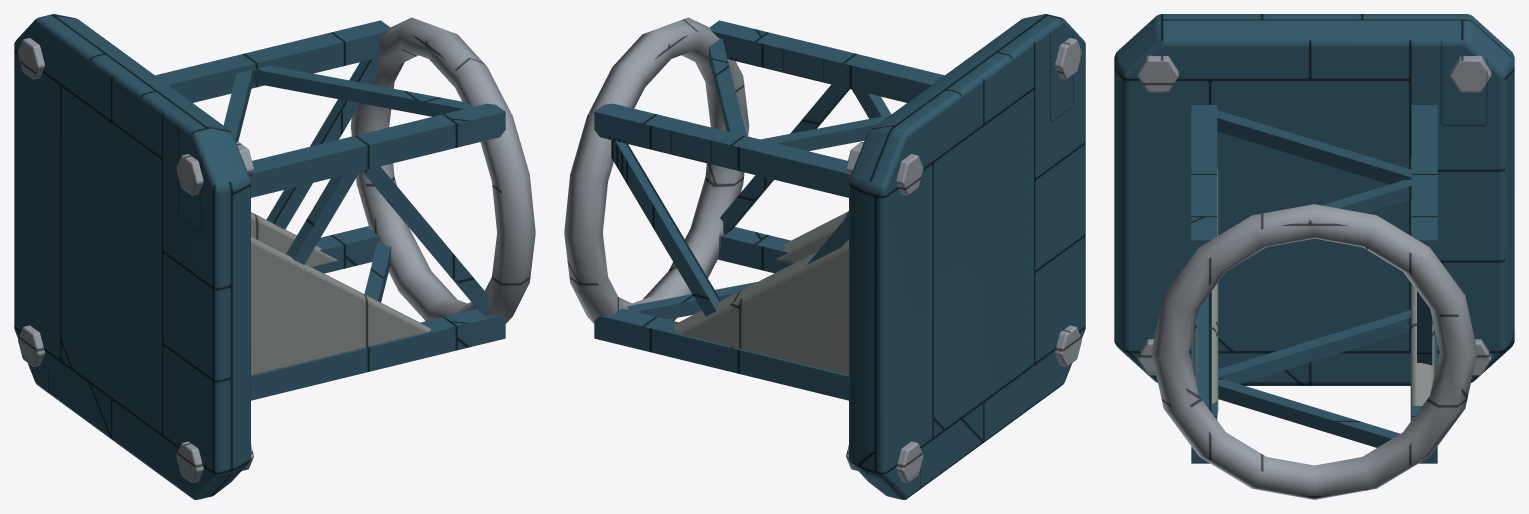
Rendered from bulkhead_mount_lod0.glb.
The picture shows the model from 3 angles, left to right: view 1: azimuth 30°, elevation 25°; view 2: azimuth 150°, elevation 25°; view 3: azimuth 270°, elevation 25°; orthographic projection.
Parts seen in each view (by area): view 1: LOD0_Armor, LOD0_BrushedMetal, LOD0_Hull; view 2: LOD0_Armor, LOD0_BrushedMetal, LOD0_Hull; view 3: LOD0_Armor, LOD0_BrushedMetal, LOD0_Hull.
Boxes of the visible parts, bbox=[...] form: LOD0_Armor: bbox=[14, 14, 505, 499]; LOD0_BrushedMetal: bbox=[18, 17, 535, 482]; LOD0_Hull: bbox=[251, 212, 430, 374]; LOD0_Armor: bbox=[594, 14, 1085, 499]; LOD0_BrushedMetal: bbox=[564, 17, 1081, 482]; LOD0_Hull: bbox=[673, 211, 848, 374]; LOD0_Armor: bbox=[1114, 14, 1514, 463]; LOD0_BrushedMetal: bbox=[1137, 55, 1491, 499]; LOD0_Hull: bbox=[1194, 155, 1434, 421].
Bounding box in the file's own units: 1.99 × 2 × 2.
Materials: 3 (3 with a texture image).
